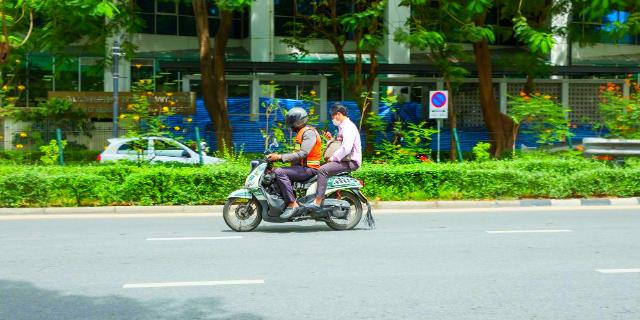helm: (287, 109, 309, 132)
motor: (225, 150, 374, 233)
non-helm: (331, 104, 349, 127)
